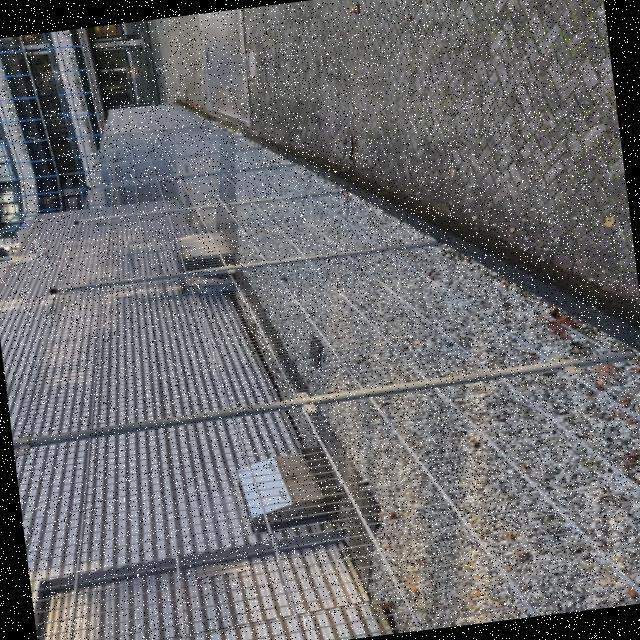fence line: (39, 165, 639, 639), (92, 65, 408, 327)
